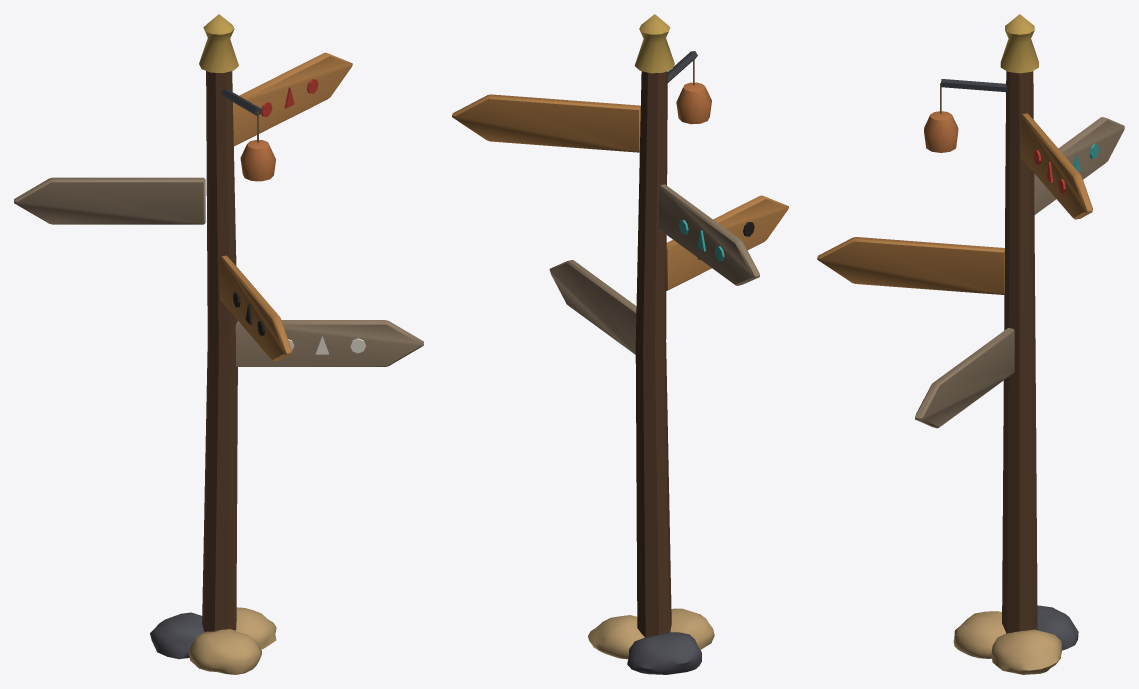
Rendered from deco_signpost.fbx.
The picture shows the model from 3 angles, left to right: view 1: azimuth 30°, elevation 25°; view 2: azimuth 150°, elevation 25°; view 3: azimuth 270°, elevation 25°; orthographic projection.
Parts seen in each view (by area): view 1: Signpost_Post, Signpost_Arrow2, Signpost_Arrow4, Signpost_Arrow1, Signpost_Arrow3, Signpost_Lantern; view 2: Signpost_Post, Signpost_Arrow1, Signpost_Arrow2, Signpost_Arrow4, Signpost_Arrow3, Signpost_Lantern; view 3: Signpost_Post, Signpost_Arrow3, Signpost_Arrow4, Signpost_Arrow1, Signpost_Arrow2, Signpost_Lantern.
Part boxes in pixels (left/top/right/bottom): Signpost_Post: left=150, top=14, right=276, bottom=674; Signpost_Arrow2: left=14, top=177, right=205, bottom=224; Signpost_Arrow4: left=235, top=320, right=423, bottom=366; Signpost_Arrow1: left=233, top=52, right=352, bottom=146; Signpost_Arrow3: left=220, top=255, right=291, bottom=361; Signpost_Lantern: left=221, top=89, right=275, bottom=181; Signpost_Post: left=588, top=14, right=714, bottom=674; Signpost_Arrow1: left=452, top=94, right=640, bottom=152; Signpost_Arrow2: left=658, top=184, right=759, bottom=285; Signpost_Arrow4: left=549, top=260, right=636, bottom=354; Signpost_Arrow3: left=666, top=195, right=788, bottom=290; Signpost_Lantern: left=667, top=51, right=711, bottom=124; Signpost_Post: left=953, top=14, right=1078, bottom=674; Signpost_Arrow3: left=817, top=237, right=1004, bottom=294; Signpost_Arrow4: left=915, top=328, right=1014, bottom=428; Signpost_Arrow1: left=1020, top=113, right=1092, bottom=219; Signpost_Arrow2: left=1034, top=117, right=1124, bottom=214; Signpost_Lantern: left=924, top=79, right=1007, bottom=152.
Bounding box in the file's own units: 166 × 312 × 137.
